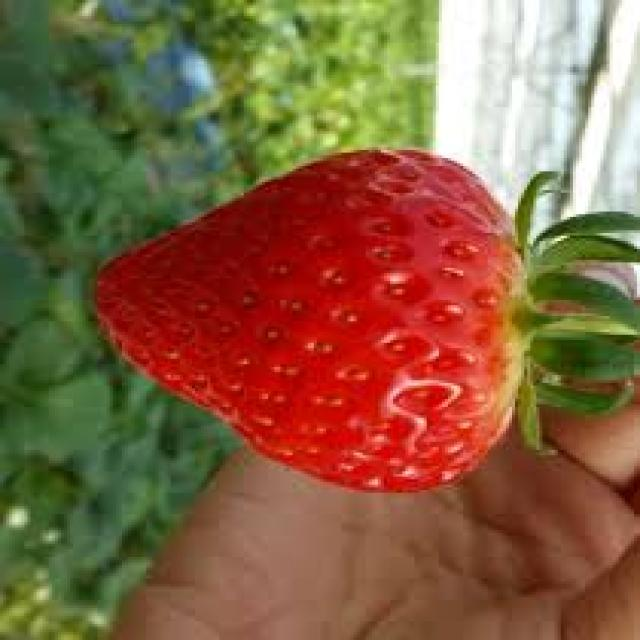mature: (93, 144, 530, 495)
